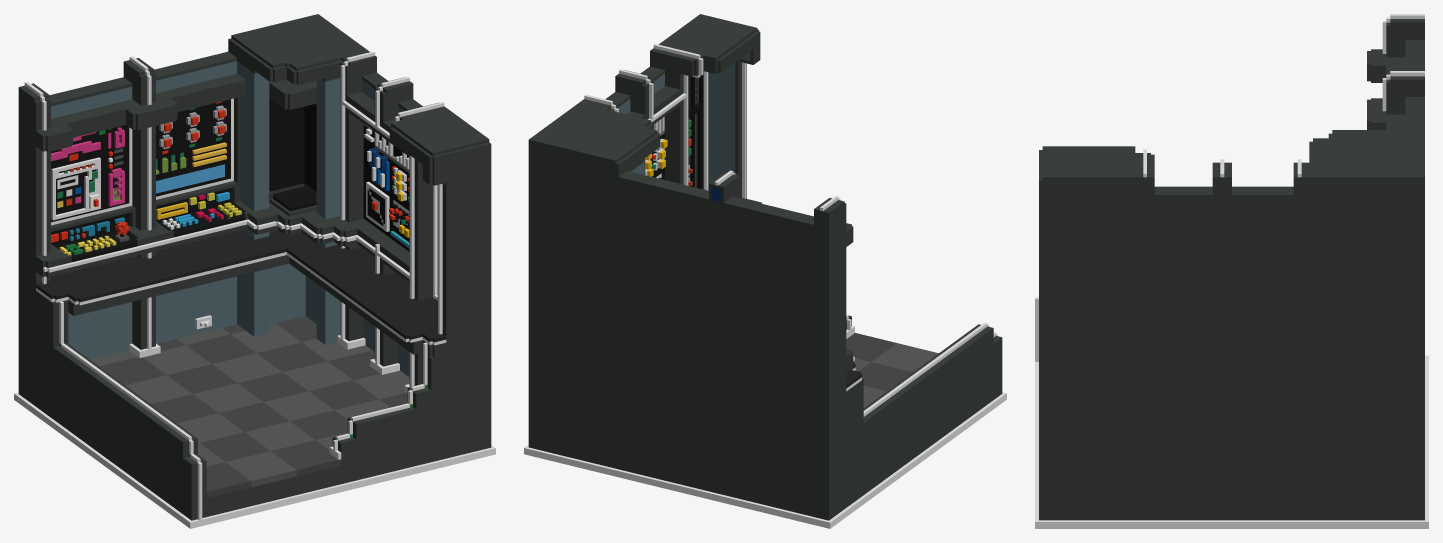
The model's file is Room_0.obj.
3 renders of one model, left to right at view 1: azimuth 30°, elevation 25°; view 2: azimuth 150°, elevation 25°; view 3: azimuth 270°, elevation 25°, orthographic. The views are drawn at different scales.
Size of the model in its own units: 102 by 101 by 102.
